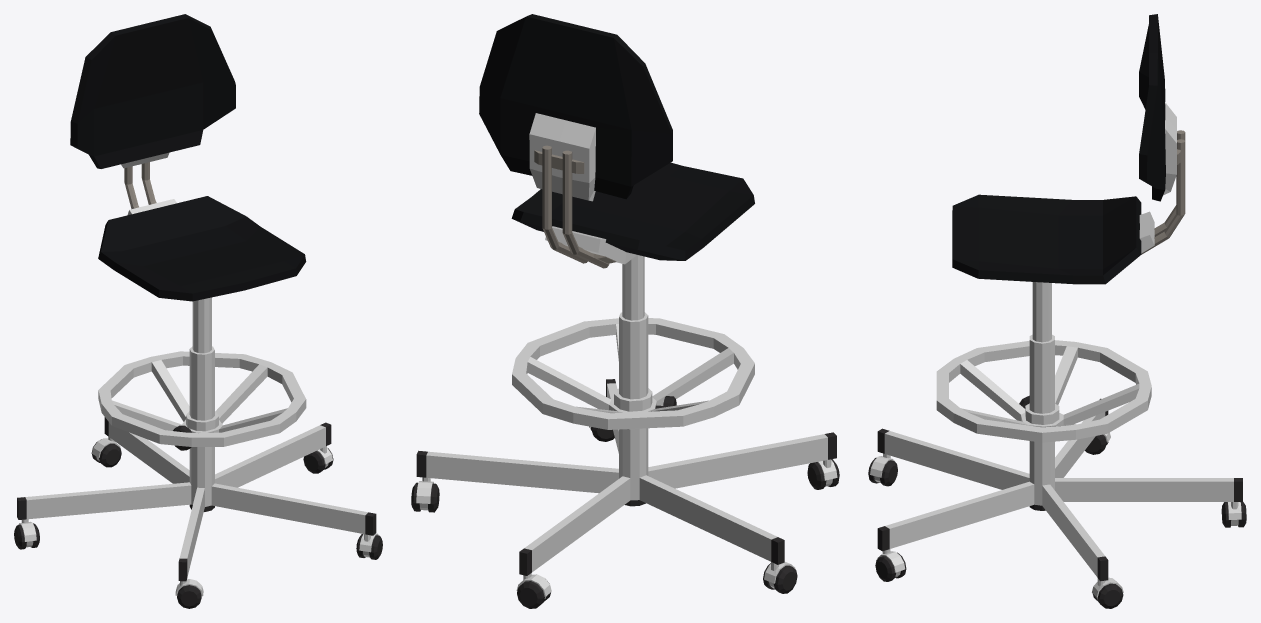
The model's file is lab_chair.fbx.
3 views of the same model, side by side, from view 1: azimuth 30°, elevation 25°; view 2: azimuth 150°, elevation 25°; view 3: azimuth 270°, elevation 25° (orthographic). The views are drawn at different scales.
Visible parts, largest first — view 1: Lab_chair_seat, Lab_chair_base; view 2: Lab_chair_seat, Lab_chair_base; view 3: Lab_chair_base, Lab_chair_seat.
Boxes of the visible parts, x1,y1,x2,y2 form: Lab_chair_seat: [70, 14, 306, 353]; Lab_chair_base: [14, 346, 382, 608]; Lab_chair_seat: [479, 14, 754, 320]; Lab_chair_base: [411, 312, 839, 608]; Lab_chair_base: [868, 334, 1246, 608]; Lab_chair_seat: [952, 14, 1185, 342].
Bounding box in the file's own units: 87.83 × 122 × 84.54.
Materials: 1 (1 with a texture image).
